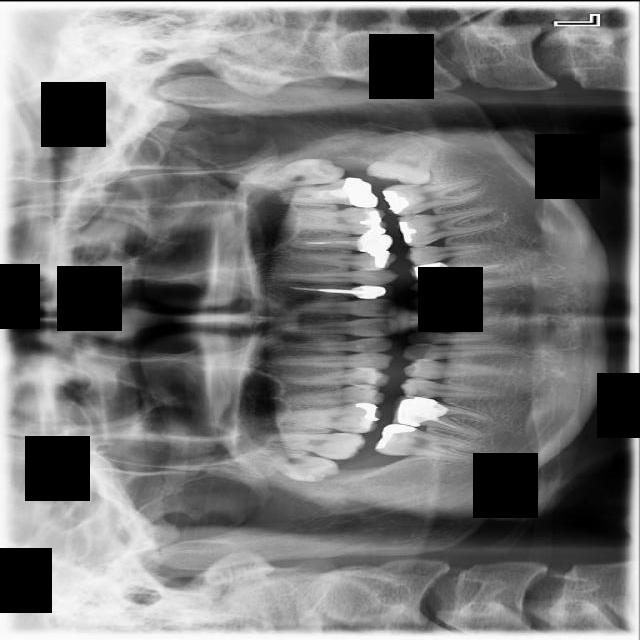3M ESPE Implant: (231, 441, 341, 487)
52: (372, 415, 425, 465), (325, 171, 380, 217), (379, 175, 430, 222), (394, 207, 443, 250), (338, 398, 383, 438), (343, 201, 389, 239), (392, 393, 439, 429), (408, 259, 450, 283), (354, 249, 398, 271), (355, 231, 394, 254), (347, 336, 393, 353), (351, 283, 393, 299), (349, 376, 371, 390), (414, 388, 431, 399)
73: (424, 398, 492, 439), (269, 181, 343, 204), (290, 235, 361, 250), (284, 284, 357, 297), (446, 261, 510, 275), (574, 26, 590, 38)
BioHorizons Implant: (270, 171, 379, 208)
BioLife Implant: (236, 153, 349, 195)
Biomet 3i Implant: (364, 131, 439, 191)
Blue Sky Bio Implant: (381, 177, 485, 218)
Caries: (251, 431, 366, 459)
Implant: (375, 422, 479, 463)
